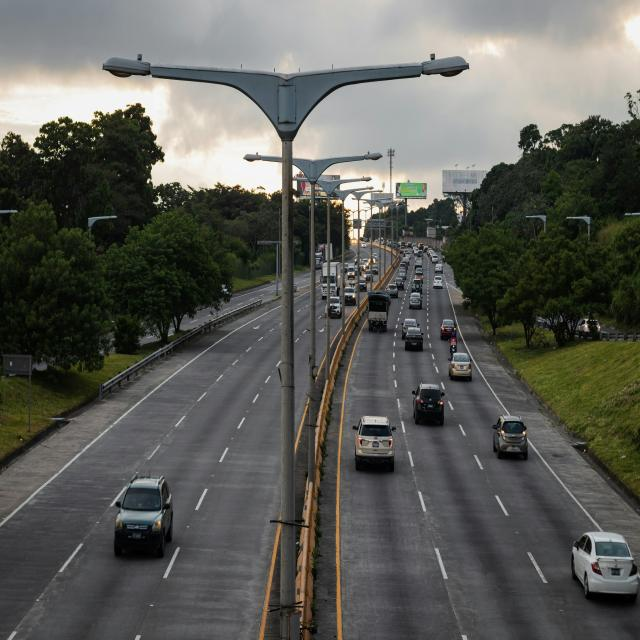Car: (114, 470, 173, 558), (571, 531, 639, 601), (352, 414, 396, 472), (492, 415, 528, 460), (412, 382, 445, 426), (448, 352, 472, 381), (576, 318, 600, 340), (404, 326, 424, 351), (326, 296, 342, 318), (402, 318, 418, 339), (440, 319, 456, 339), (409, 292, 422, 309), (344, 286, 356, 304), (387, 283, 398, 298), (433, 275, 443, 288), (358, 278, 366, 290)
Motorcycle: (450, 336, 458, 360)
